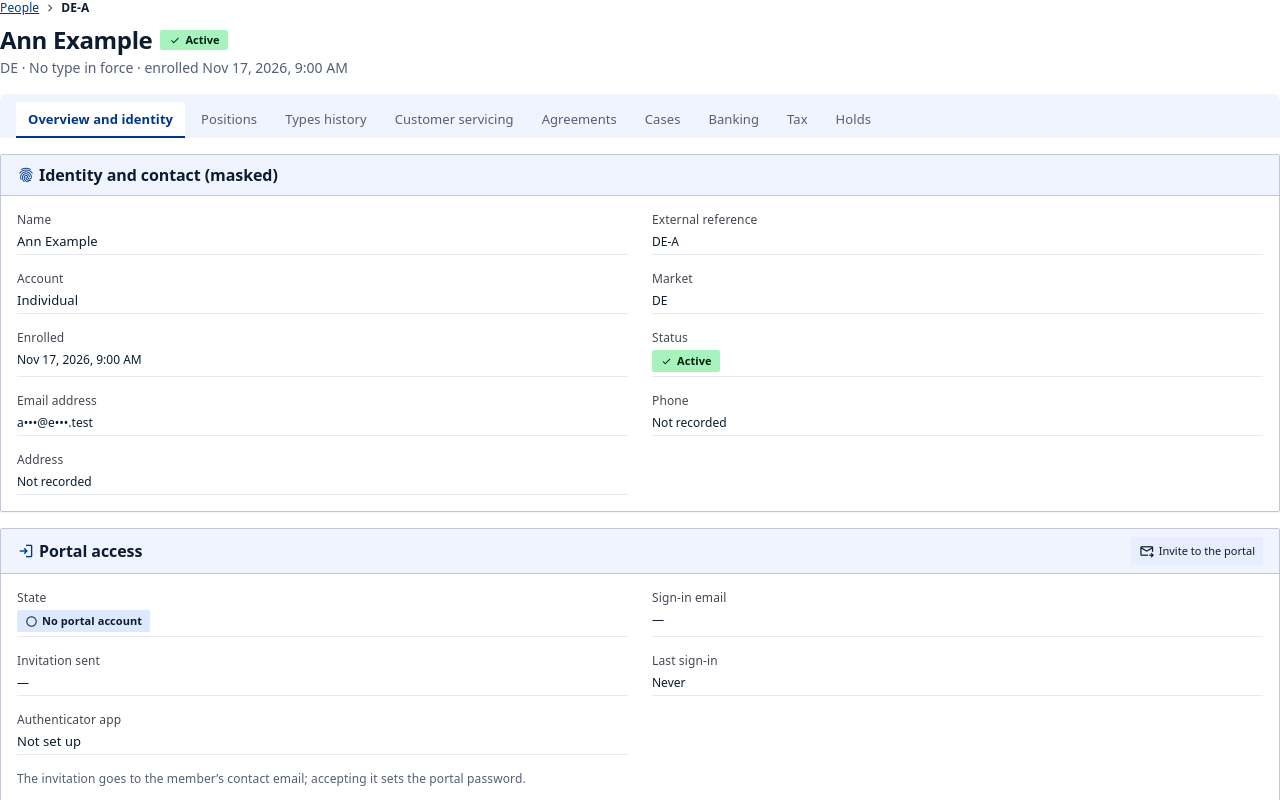
it: SC-09 Portal access (D-B5-05) › invites a member with an Idempotency-Key, shows the invited state and the sent time once the mail job wrote it (BUG-113)
The width and height of the screenshot is (1280, 800).
Expected: the text "No portal account" is shown, [17,610,150,632]
Click the button "Invite to the portal" at (1197, 551), box [1131,537,1263,565]
Wait 3000 ms
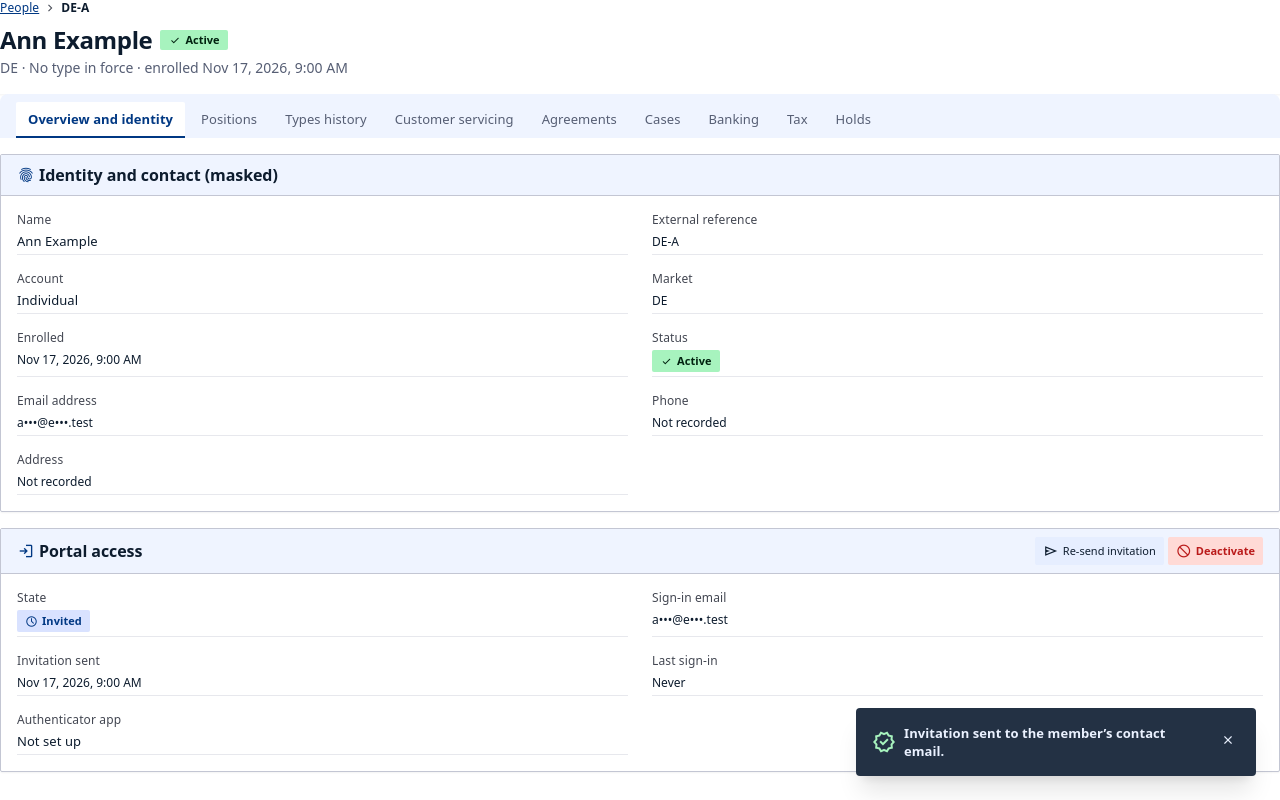
Expected: the text "Invitation sent to the member’s contact email." is shown, [904,724,1208,760]
Expected: the text "Invited" is shown, [17,610,90,632]
Expected: the button "Re-send invitation" is shown, [1035,537,1164,565]
